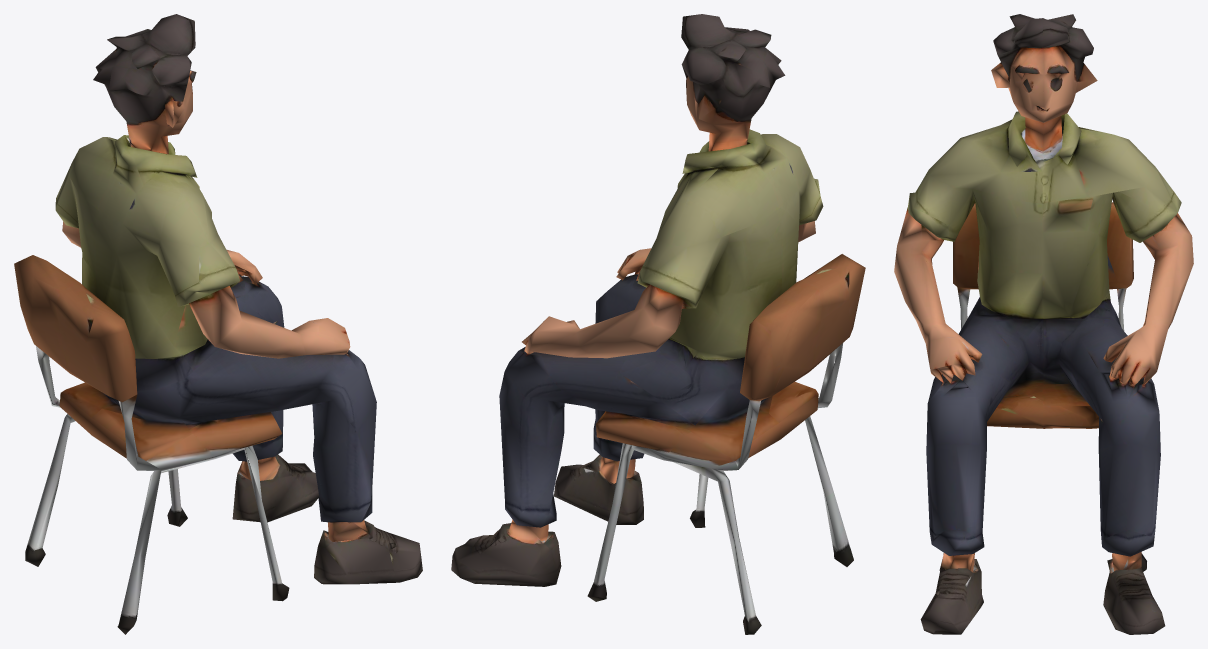
File: patient.glb
3 renders of one model, left to right at view 1: azimuth 30°, elevation 25°; view 2: azimuth 150°, elevation 25°; view 3: azimuth 270°, elevation 25°, orthographic. The views are drawn at different scales.
Parts seen in each view (by area): view 1: tripo_node_617ec7e3-5456-4f3e-85db-5754fab7dfe2; view 2: tripo_node_617ec7e3-5456-4f3e-85db-5754fab7dfe2; view 3: tripo_node_617ec7e3-5456-4f3e-85db-5754fab7dfe2.
Boxes of the visible parts, x1,y1,x2,y2 form: tripo_node_617ec7e3-5456-4f3e-85db-5754fab7dfe2: (14, 14, 422, 634); tripo_node_617ec7e3-5456-4f3e-85db-5754fab7dfe2: (451, 14, 865, 634); tripo_node_617ec7e3-5456-4f3e-85db-5754fab7dfe2: (894, 14, 1193, 634).
Bounding box in the file's own units: 0.577 × 0.9794 × 0.5024.
Materials: 1 (1 with a texture image).
